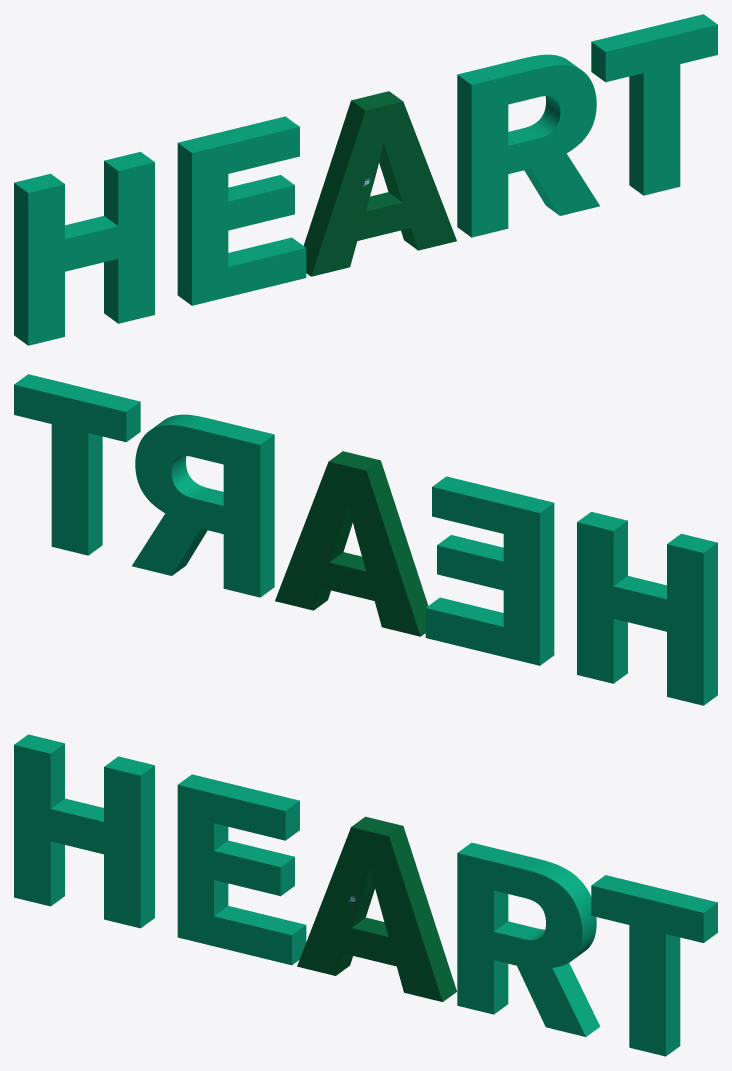
Rendered from Heart_Oct2.gltf.
3 views of the same model, one above another, from view 1: azimuth 30°, elevation 25°; view 2: azimuth 150°, elevation 25°; view 3: azimuth 330°, elevation 25° (orthographic).
Bounding box in the file's own units: 1.33 × 0.2828 × 0.048.
5 materials, 1 textured.
